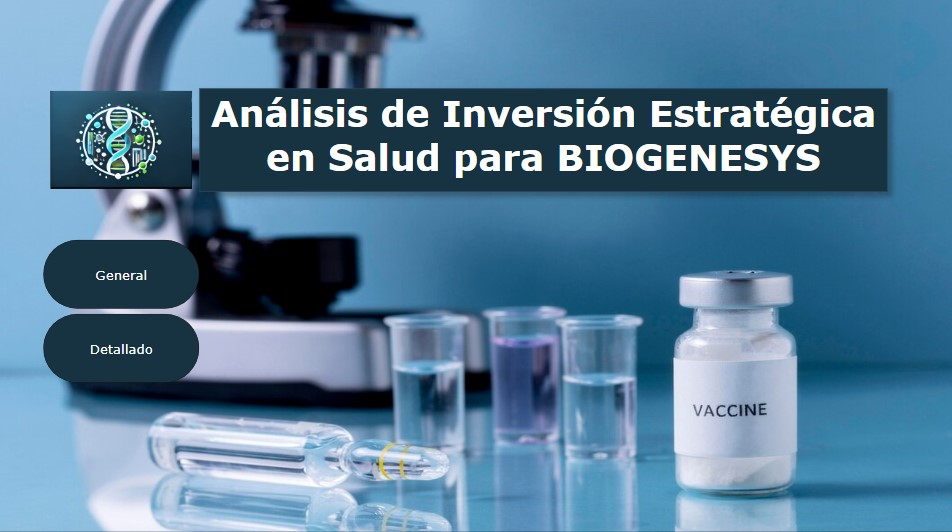

The page's visual inventory and layout, read from the dashboard file:
{"tool":"powerbi","page":{"name":"Portada","canvas":[1920,1080],"ordinal":0},"visuals":[{"type":"image","box":[0,0,1920,1080],"z":0},{"type":"textbox","box":[404,186,1376,206],"z":1000},{"type":"image","box":[92,186,312,206],"z":2000},{"type":"pageNavigator","box":[92,488,312,286],"z":3000}]}

Visuals, with their boxes in screenshot pixels (x1, y1, x2, y2), scaled from the page's 1920x1080 canvas onto the 952x532 screenshot:
image: [0,0,951,531]
textbox: [200,92,883,193]
image: [46,92,200,193]
pageNavigator: [46,240,200,381]
